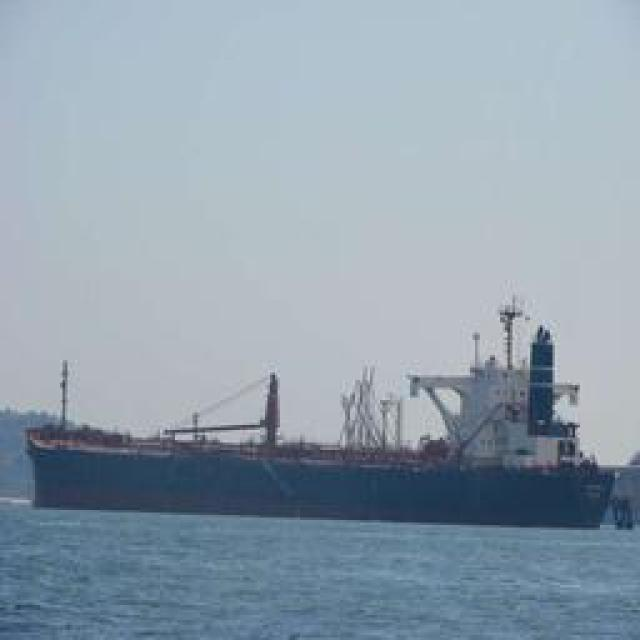Ship: (17, 344, 627, 529)
